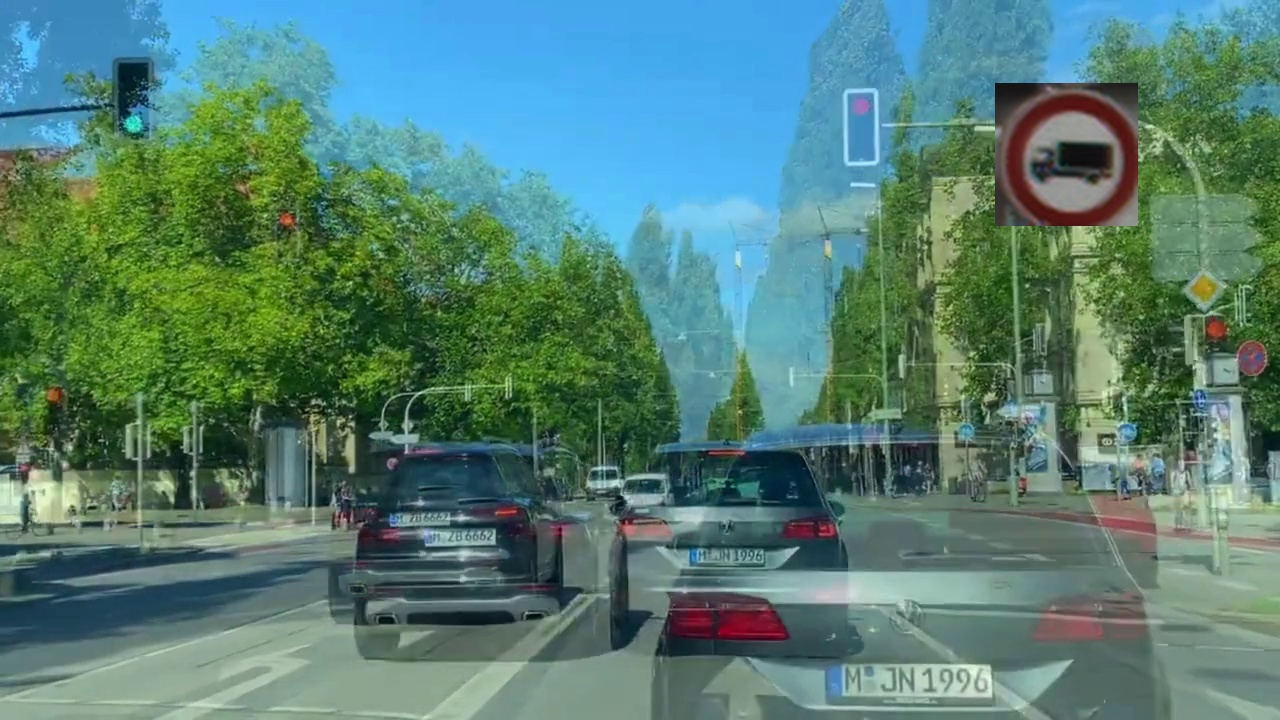Veh >3.5t prohib: (995, 83, 1138, 226)
